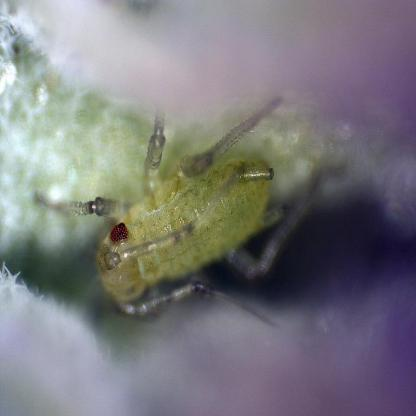aphid: (50, 98, 311, 336)
